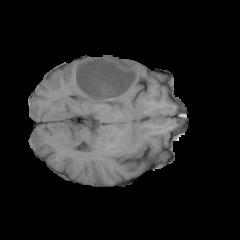glioma: (68, 55, 140, 107)
